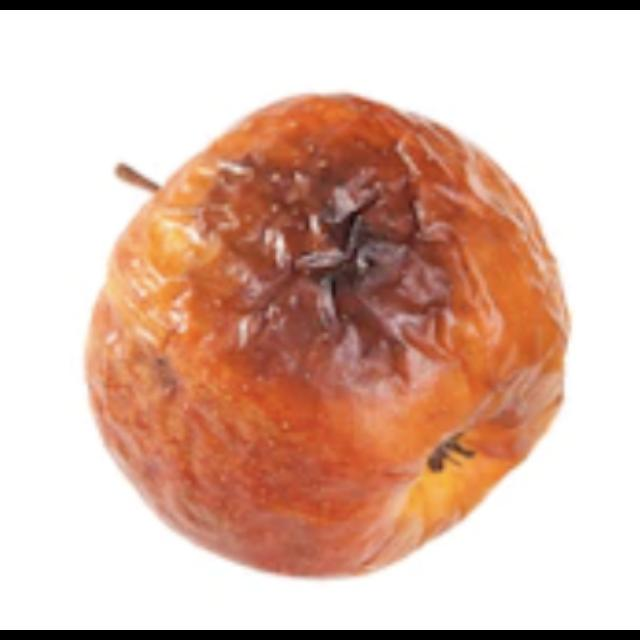Apel Tidak Segar: (88, 94, 562, 578)
